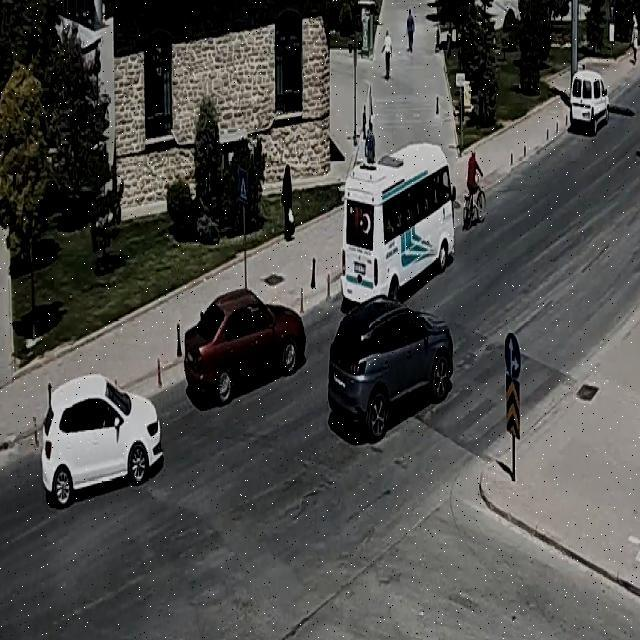Car: (325, 303, 454, 435), (40, 374, 162, 509), (184, 287, 306, 403)
Cycle: (461, 149, 488, 227)
Truck: (340, 140, 456, 302)
Van: (569, 68, 609, 130)
